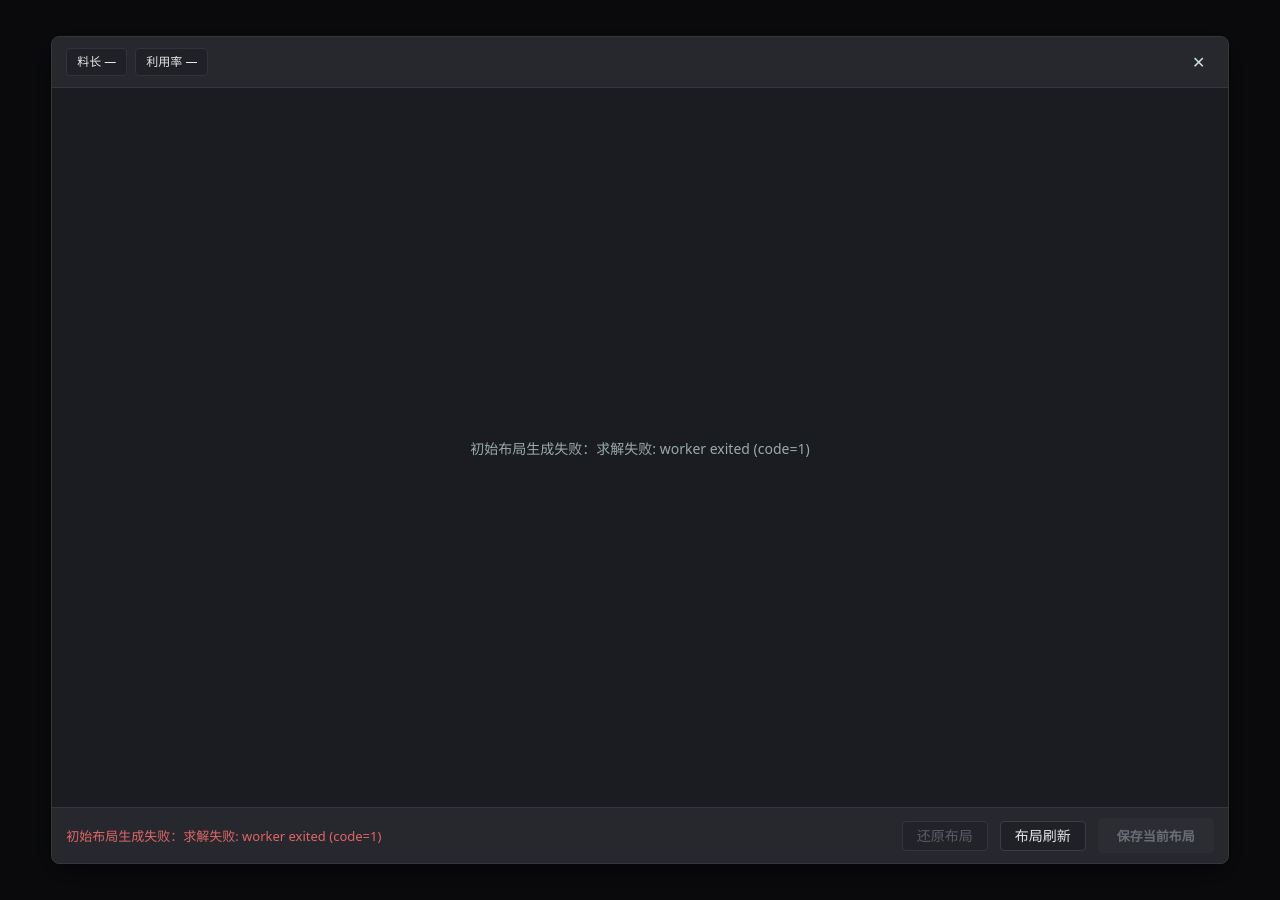
Test case: InitialLayoutModal 声明式受控 + 打开编排 (US-006) › 生成失败（502 error 透传）→ footer 红字 + 空态文案 + 保存禁用；刷新可重试
Expected: the 2nd text "初始布局生成失败：求解失败: worker exited (code=1)" is shown, [66,826,381,844]
Click the button "布局刷新". click: click(1043, 836)
box: [1000,820,1086,850]
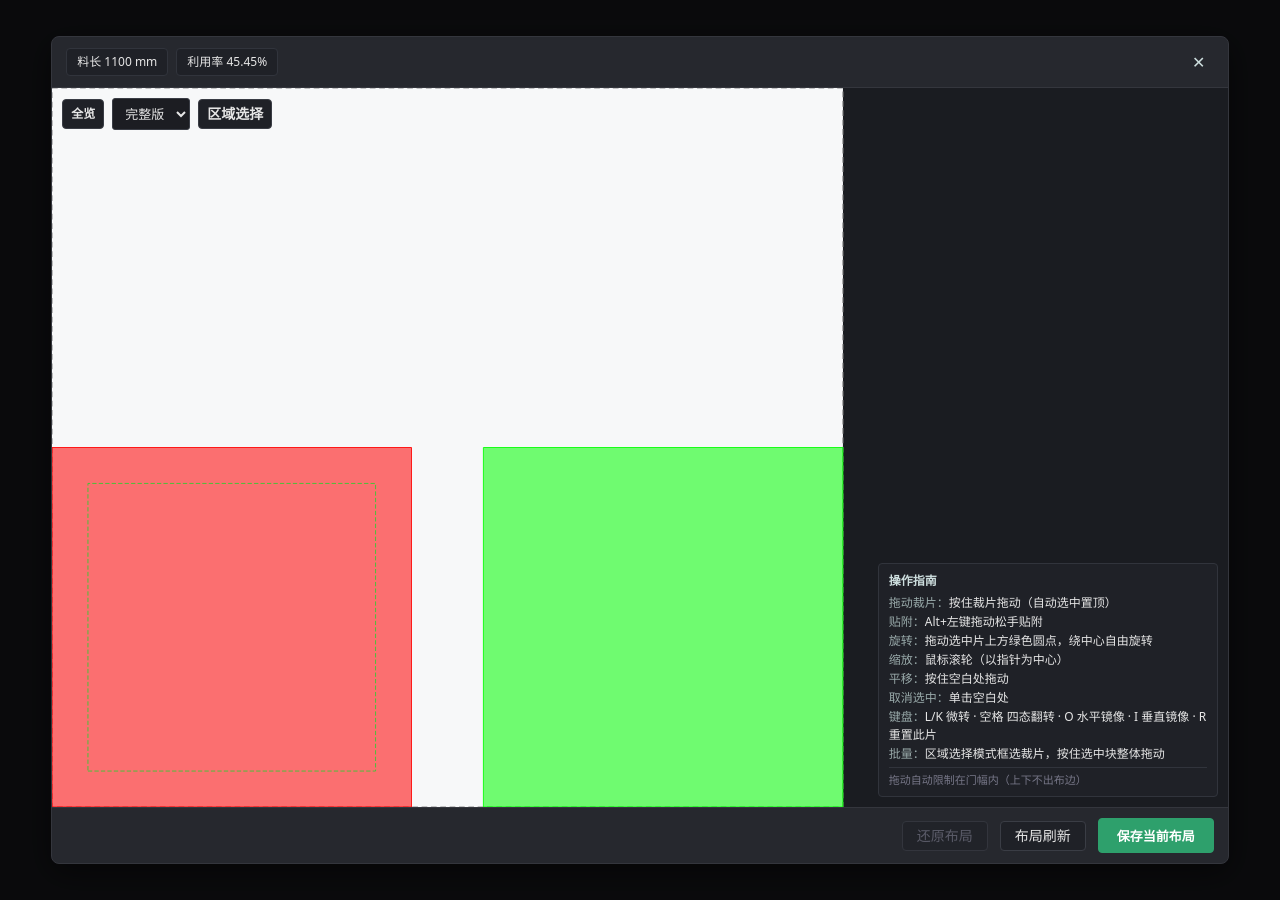
Now the icon is shown
